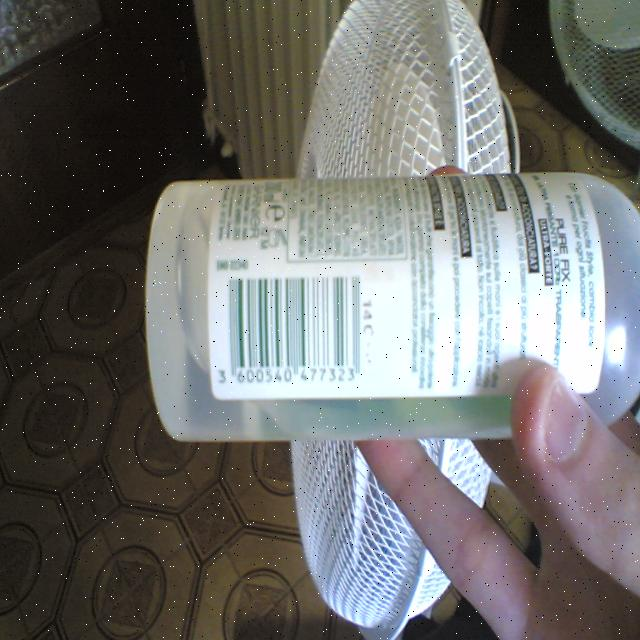barcode: (231, 277, 360, 382)
